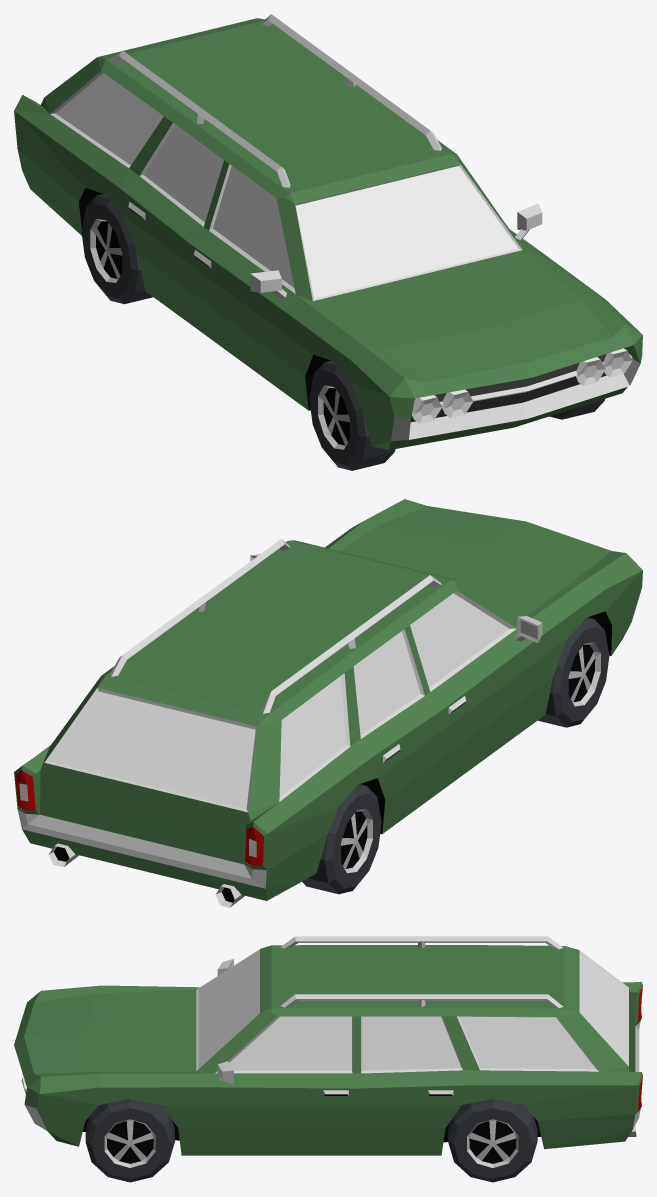
File: Muscle_Wagon_Interior_V2_fixed.fbx
3 views of the same model, one above another, from view 1: azimuth 30°, elevation 25°; view 2: azimuth 150°, elevation 25°; view 3: azimuth 270°, elevation 25° (orthographic). The views are drawn at different scales.
Visible parts, largest first — view 1: Bodywork, Door Right, Wheel Front Right, Wheel Rear Right, Door Left; view 2: Bodywork, Door Right, Wheel Rear Right, Wheel Front Right; view 3: Bodywork, Door Left, Wheel Rear Left, Wheel Front Left.
Boxes of the visible parts, x1,y1,x2,y2 form: Bodywork: [14, 14, 642, 450]; Door Right: [190, 158, 304, 385]; Wheel Front Right: [309, 360, 395, 470]; Wheel Rear Right: [81, 194, 153, 304]; Door Left: [438, 140, 542, 249]; Bodywork: [14, 499, 642, 907]; Door Right: [403, 584, 542, 780]; Wheel Rear Right: [302, 784, 381, 894]; Wheel Front Right: [538, 617, 609, 727]; Bodywork: [14, 936, 642, 1155]; Door Left: [205, 1012, 356, 1144]; Wheel Rear Left: [448, 1099, 537, 1182]; Wheel Front Left: [85, 1099, 174, 1182].
Bounding box in the file's own units: 2.04 × 1.45 × 4.86.
